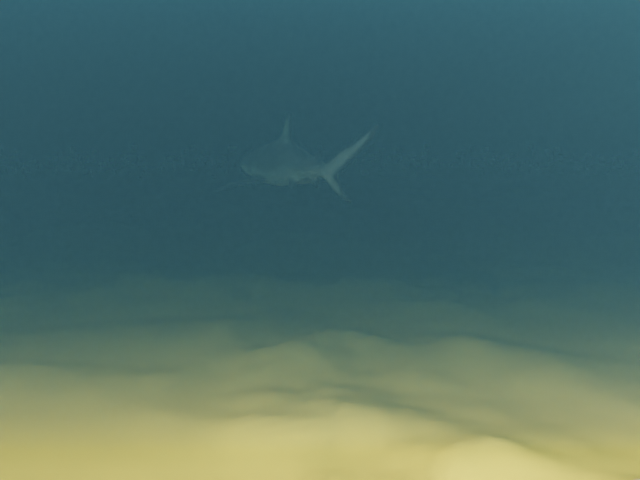Carribean Shark.001: (215, 113, 378, 202)
